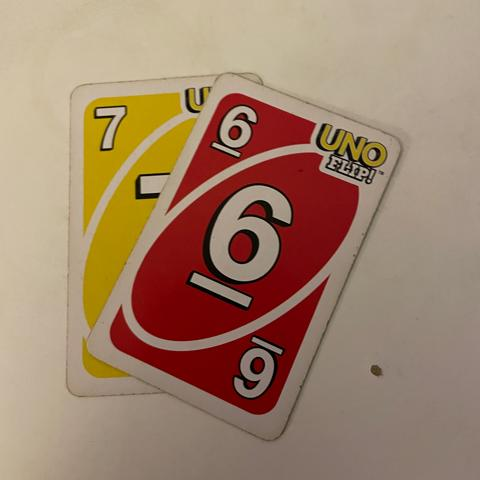lred-6: (208, 102, 267, 167)
lyellow-7: (79, 92, 142, 166)
